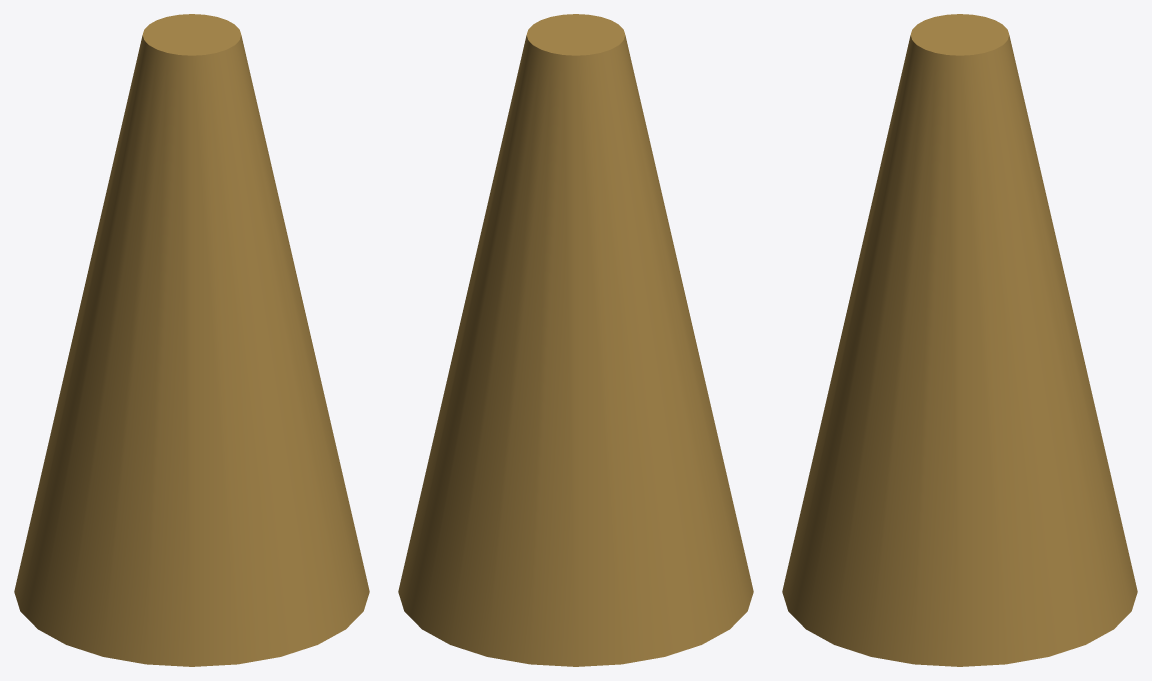
Rendered from jp_bedroom_pen_ballpoint_tip.glb.
3 renders of one model, left to right at view 1: azimuth 30°, elevation 25°; view 2: azimuth 150°, elevation 25°; view 3: azimuth 270°, elevation 25°, orthographic.
Visible parts, largest first — view 1: pen_tip; view 2: pen_tip; view 3: pen_tip.
Boxes of the visible parts, left/top/right/bottom form: pen_tip: left=14, top=14, right=369, bottom=666; pen_tip: left=398, top=14, right=753, bottom=666; pen_tip: left=782, top=14, right=1137, bottom=666.
Bounding box in the file's own units: 0.0081 × 0.014 × 0.0081.
